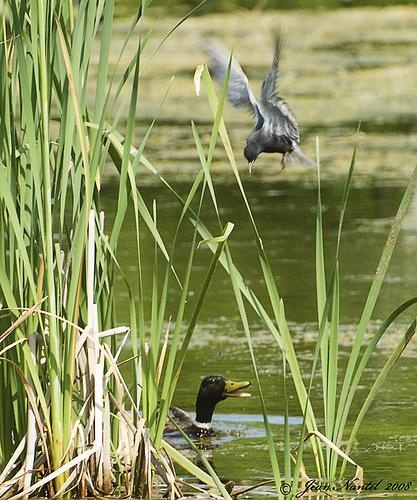bird: (199, 18, 309, 176)
